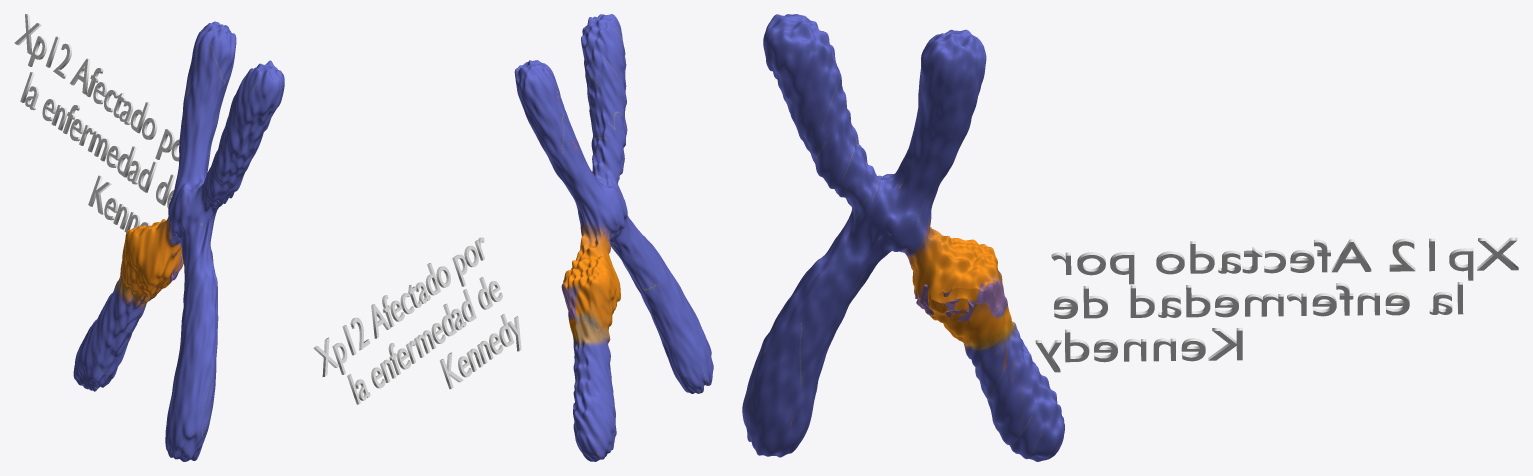
File: KENNEDY3.glb
3 views of the same model, side by side, from view 1: azimuth 30°, elevation 25°; view 2: azimuth 150°, elevation 25°; view 3: azimuth 270°, elevation 25° (orthographic). The views are drawn at different scales.
Parts seen in each view (by area): view 1: Cilindro, Texto; view 2: Cilindro, Texto; view 3: Cilindro, Texto.
Boxes of the visible parts, left/top/right/bottom form: Cilindro: left=73, top=21, right=284, bottom=461; Texto: left=14, top=14, right=179, bottom=232; Cilindro: left=514, top=14, right=713, bottom=461; Texto: left=313, top=237, right=521, bottom=404; Cilindro: left=742, top=14, right=1064, bottom=461; Texto: left=1035, top=237, right=1518, bottom=372.
Bounding box in the file's own units: 1.1 × 2.88 × 4.04.
1 material, 1 textured.
